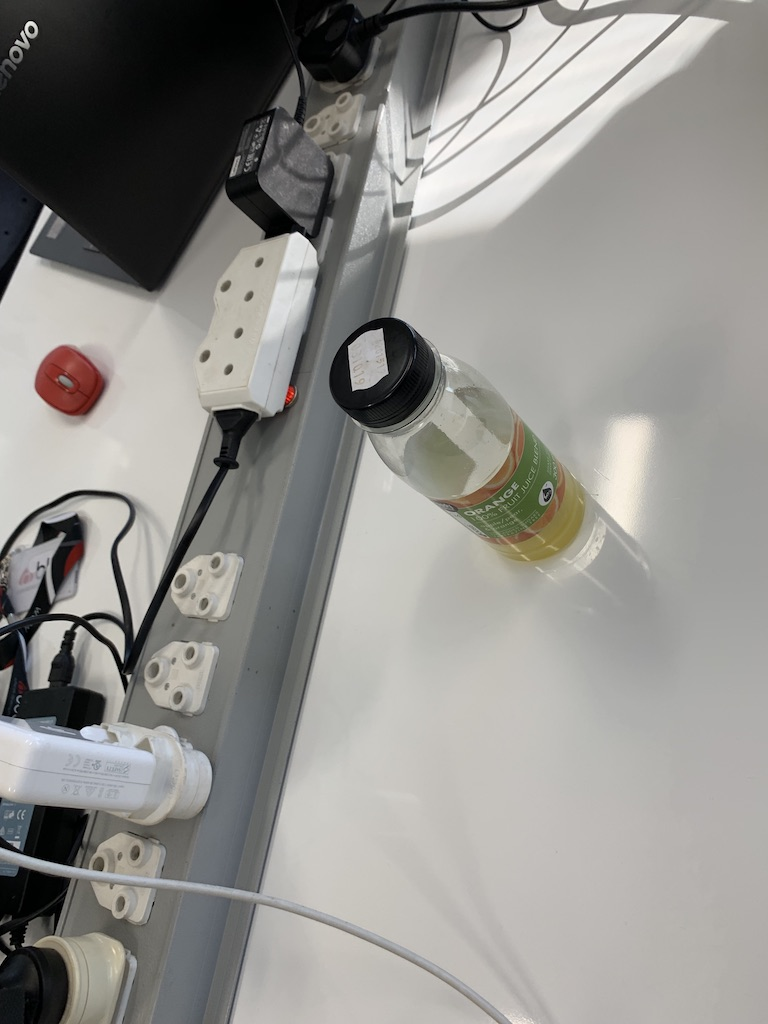bottle: (303, 290, 614, 598)
